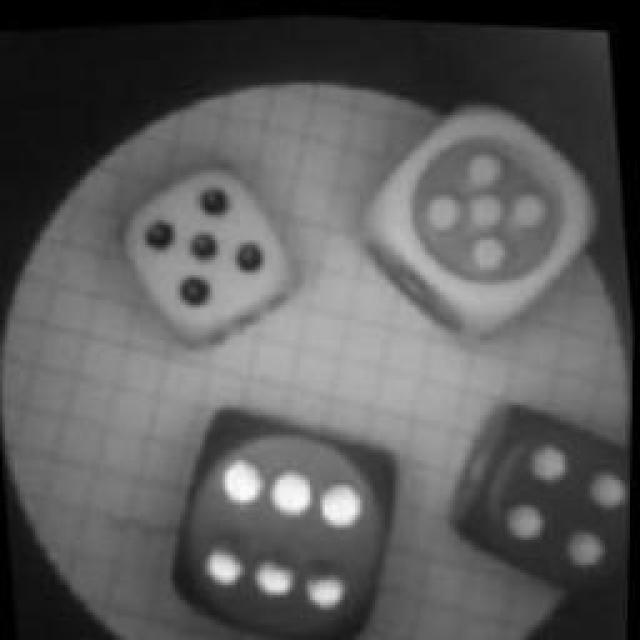dice_4: (443, 379, 635, 609)
dice_5: (350, 74, 615, 344), (112, 144, 310, 356)
dice_6: (162, 387, 415, 640)
